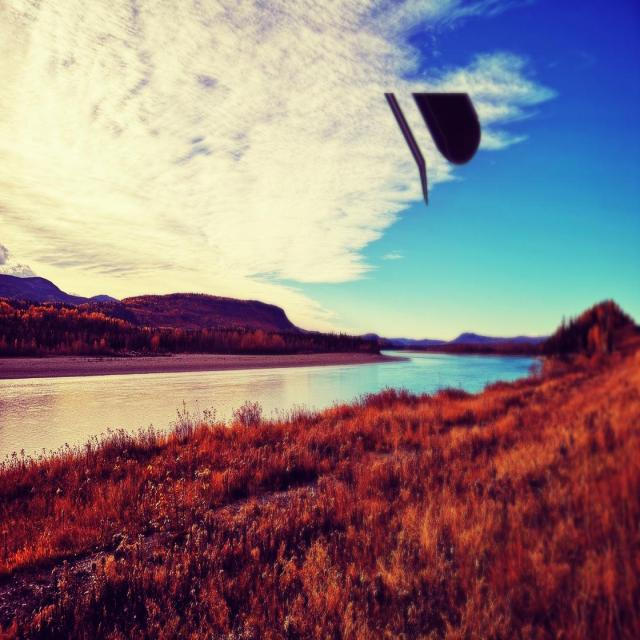airplane: (384, 91, 481, 206)
